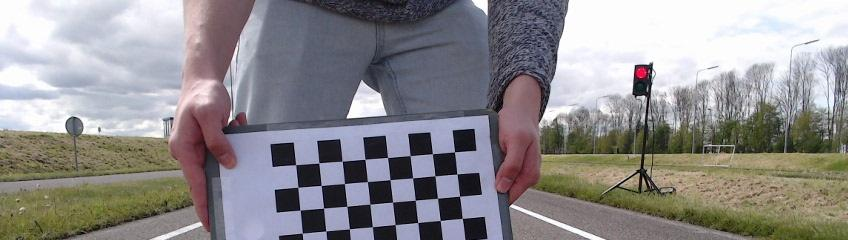TrafficLight-red: (633, 65, 652, 96)
